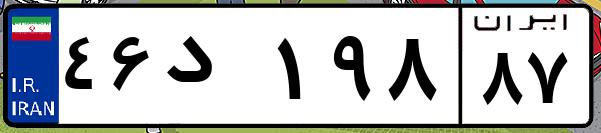1: (270, 28, 330, 110)
4: (57, 26, 110, 100)
6: (110, 28, 158, 98)
7: (525, 38, 570, 115)
8: (385, 28, 445, 110), (475, 38, 525, 113)
9: (330, 28, 385, 110)
د: (158, 20, 270, 120)
